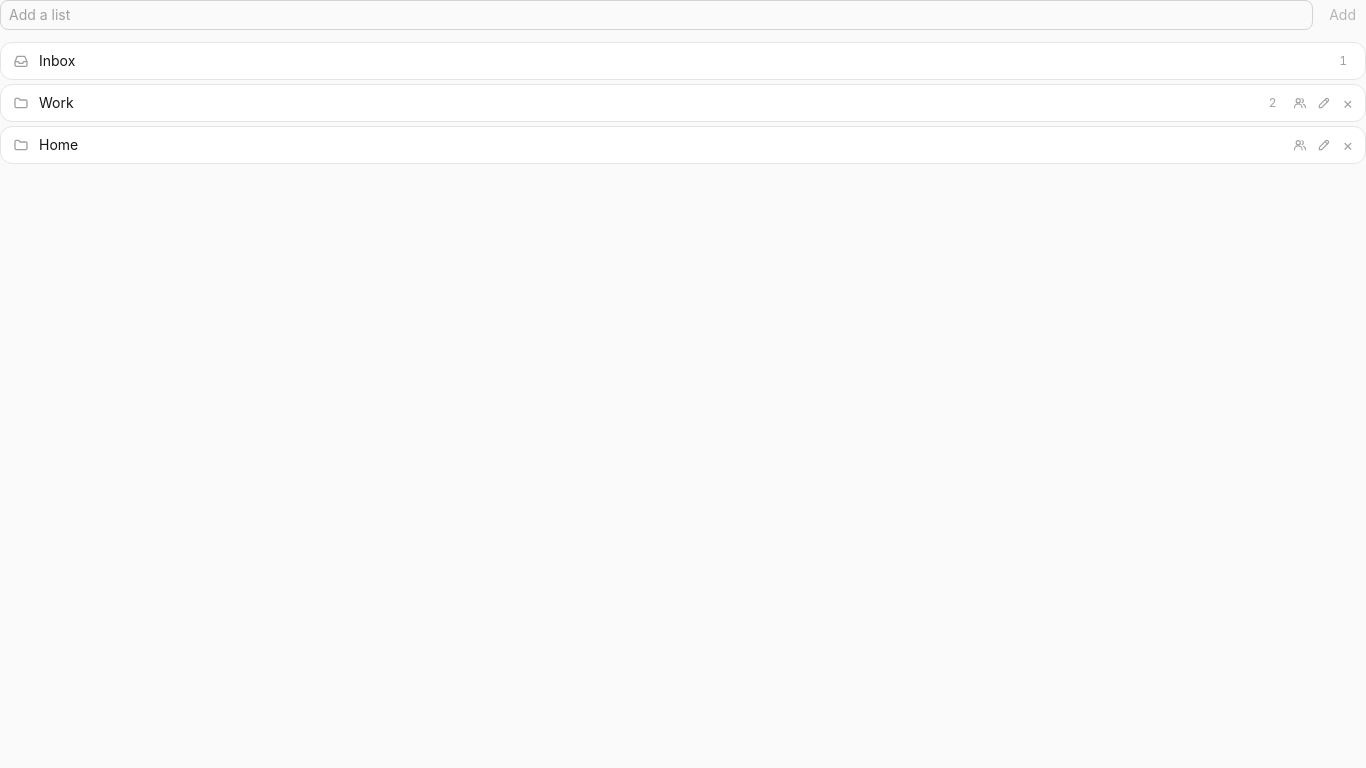
Test: deleting a list › asks first, in a sheet, saying its tasks go back to the Inbox (LST-19)
Click the button named "Delete the list \"Work\"". click: (1348, 103)
box: [1336,91,1359,115]
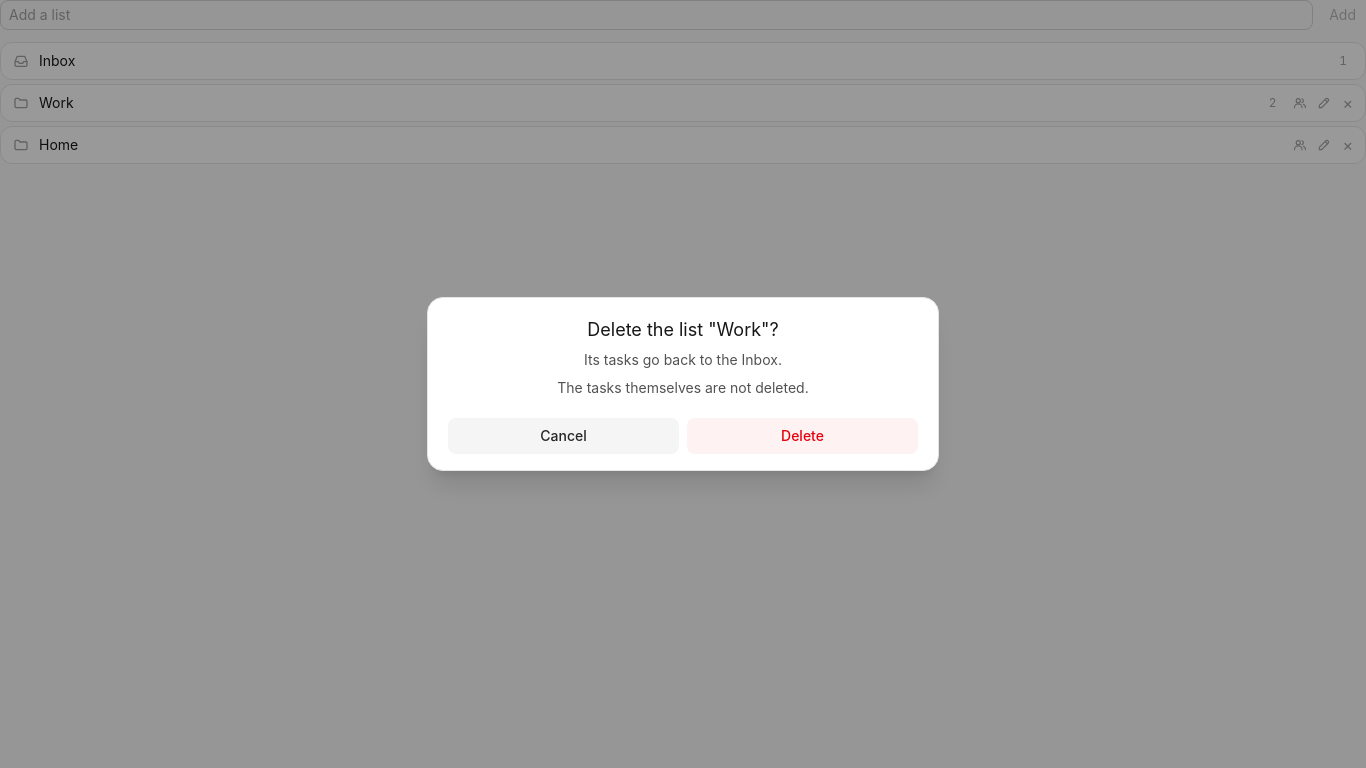
Click the button "Delete". click: (802, 436)
box: [687,418,918,454]
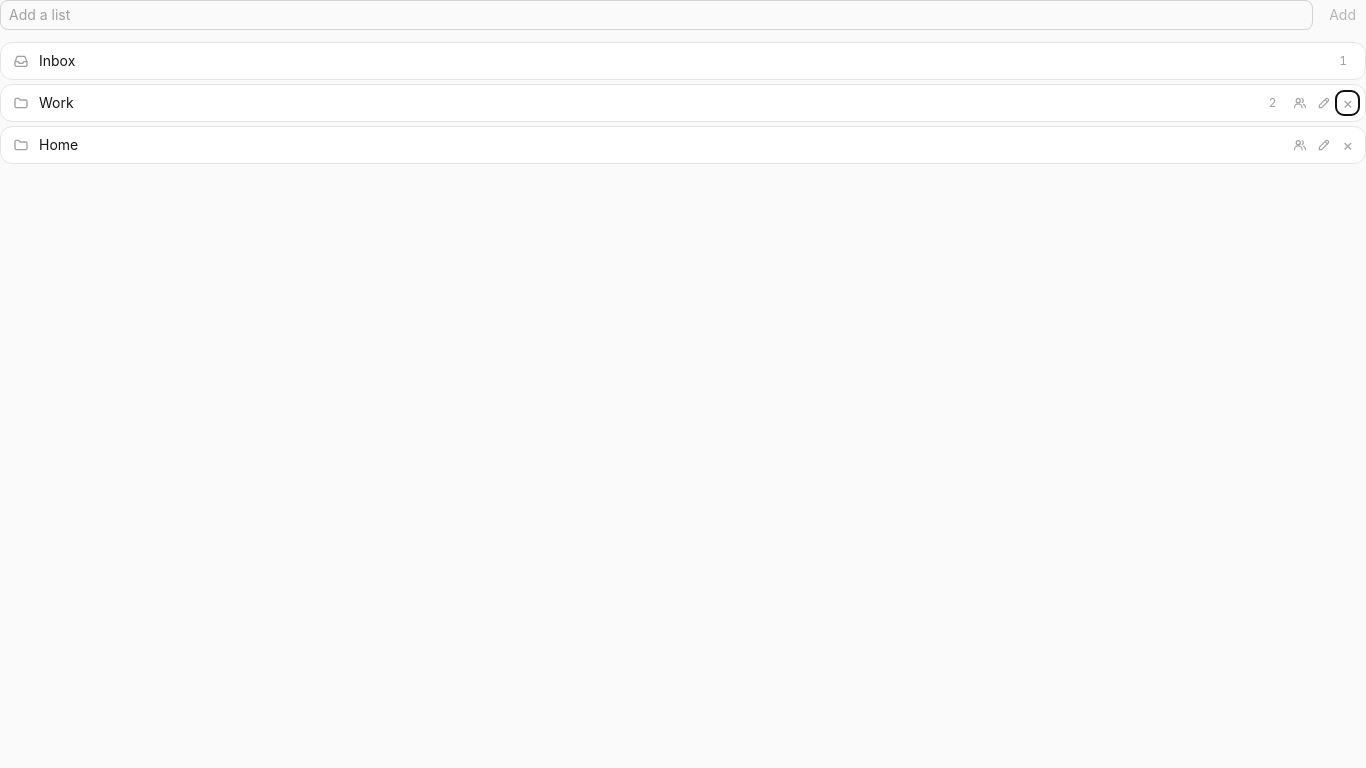
Result: the dialog is gone
